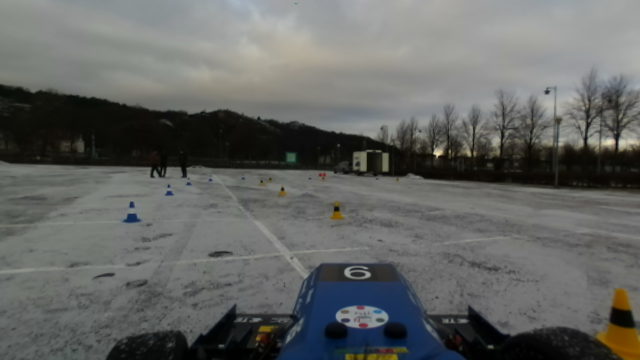blue: (120, 200, 143, 223)
yellow: (328, 201, 345, 222)
